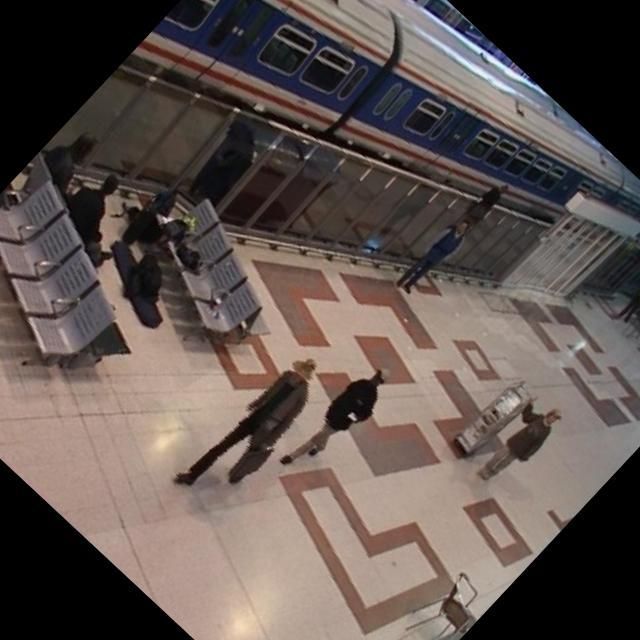person: (167, 342, 342, 522), (270, 350, 407, 492), (462, 389, 572, 502), (387, 206, 482, 306), (604, 267, 640, 335)
